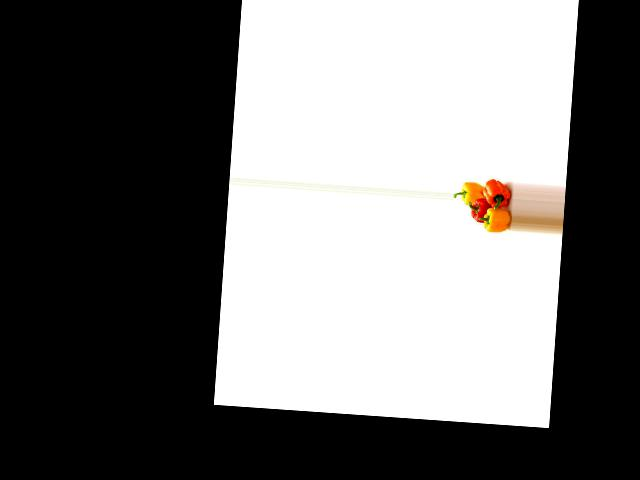bell_pepper: (478, 199, 512, 234)
